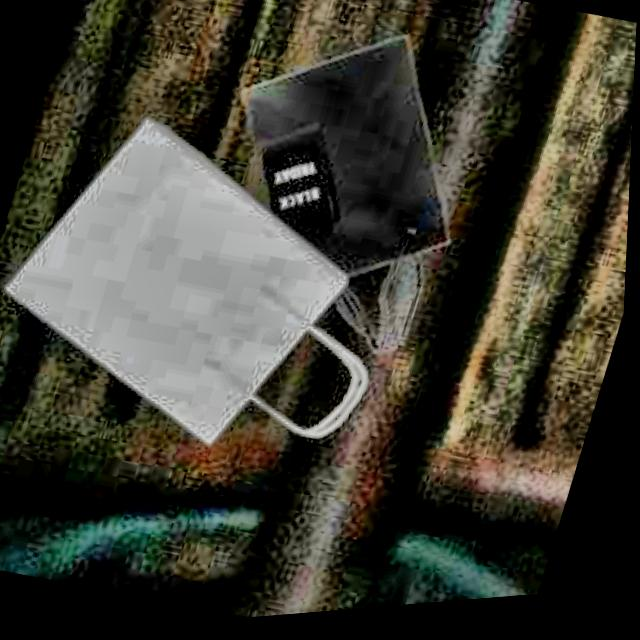Paper-bag: (0, 78, 451, 515)
